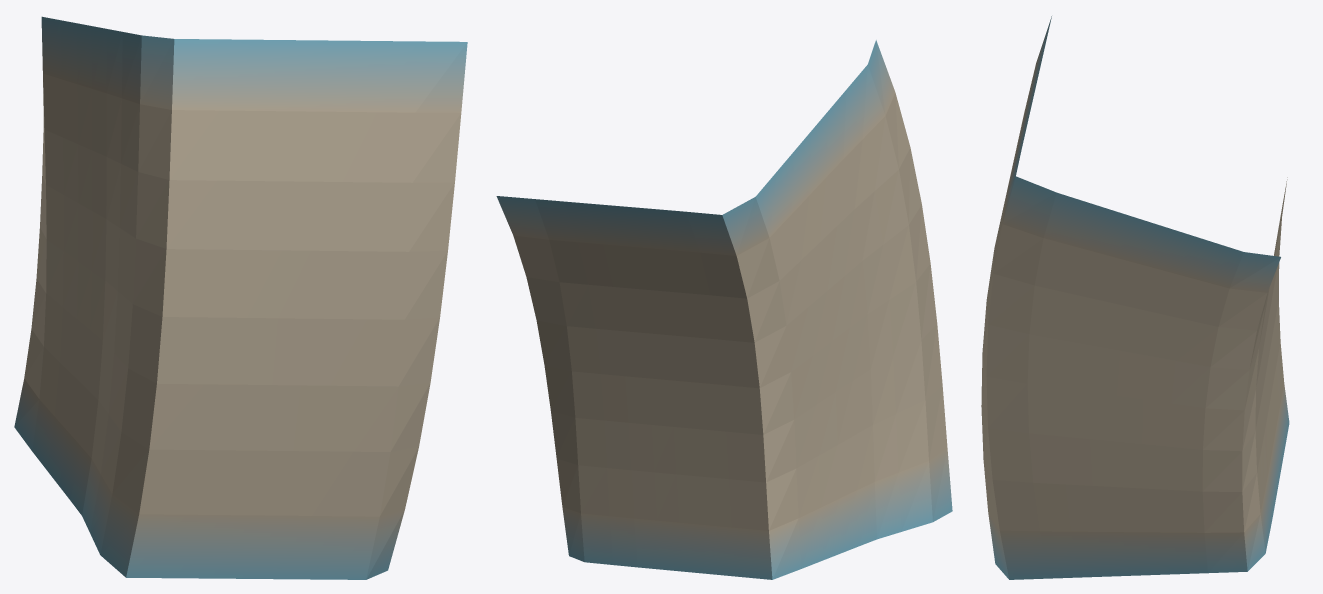
The model's file is field-elbow-11-0.glb.
The picture shows the model from 3 angles, left to right: view 1: azimuth 30°, elevation 25°; view 2: azimuth 150°, elevation 25°; view 3: azimuth 270°, elevation 25°; orthographic projection. The views are drawn at different scales.
Visible parts, largest first — view 1: world; view 2: world; view 3: world.
Boxes of the visible parts, box(x1,y1,x2,y2) form: world: box(14, 16, 467, 579); world: box(496, 40, 952, 579); world: box(981, 16, 1289, 579).
Bounding box in the file's own units: 8.65 × 12.91 × 7.87.
